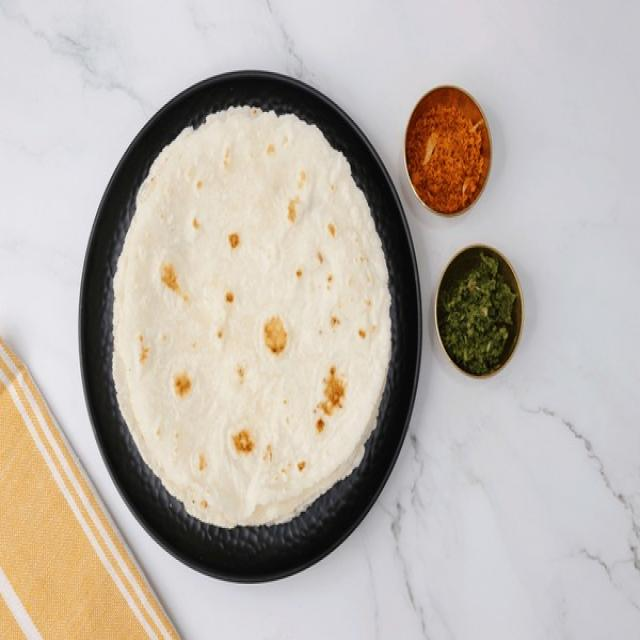RICE BHAKRI: (111, 107, 391, 527)
